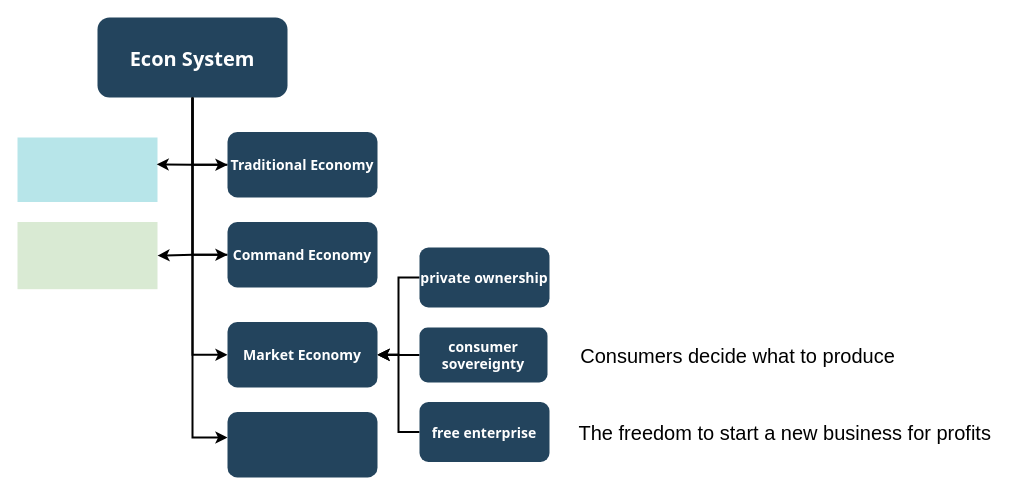
This 1024x494 diagram has some shape labels left out. The shapes that lost their labels are listed below. From the top down, each one's box as (x1, y1, x2, y2) in pixels, then its label:
(17, 137, 157, 202): An economy in which tradition along determines the nature of economic activity
(17, 222, 157, 289): Central government decides everything
(227, 412, 377, 477): Mixed Economy
